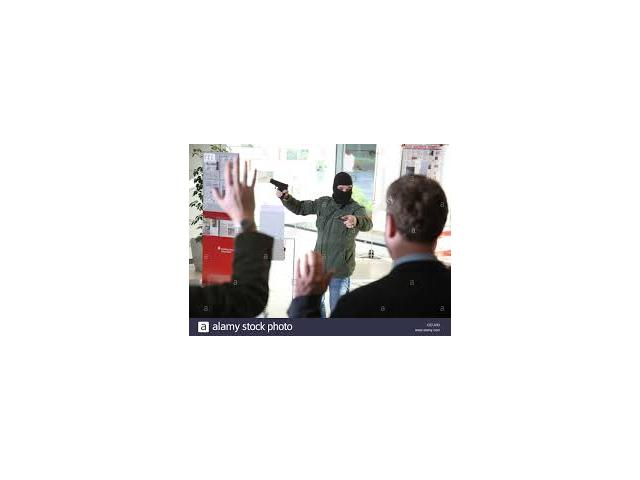pistol: (268, 177, 289, 202)
